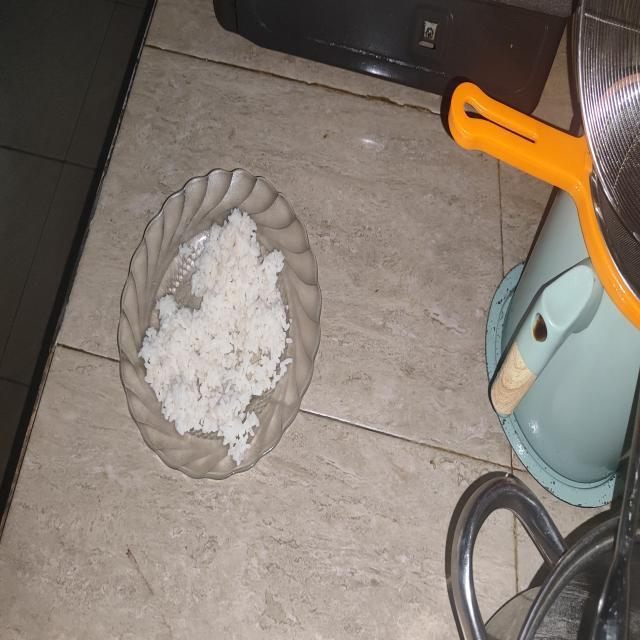nasi_putih: (138, 208, 292, 466)
